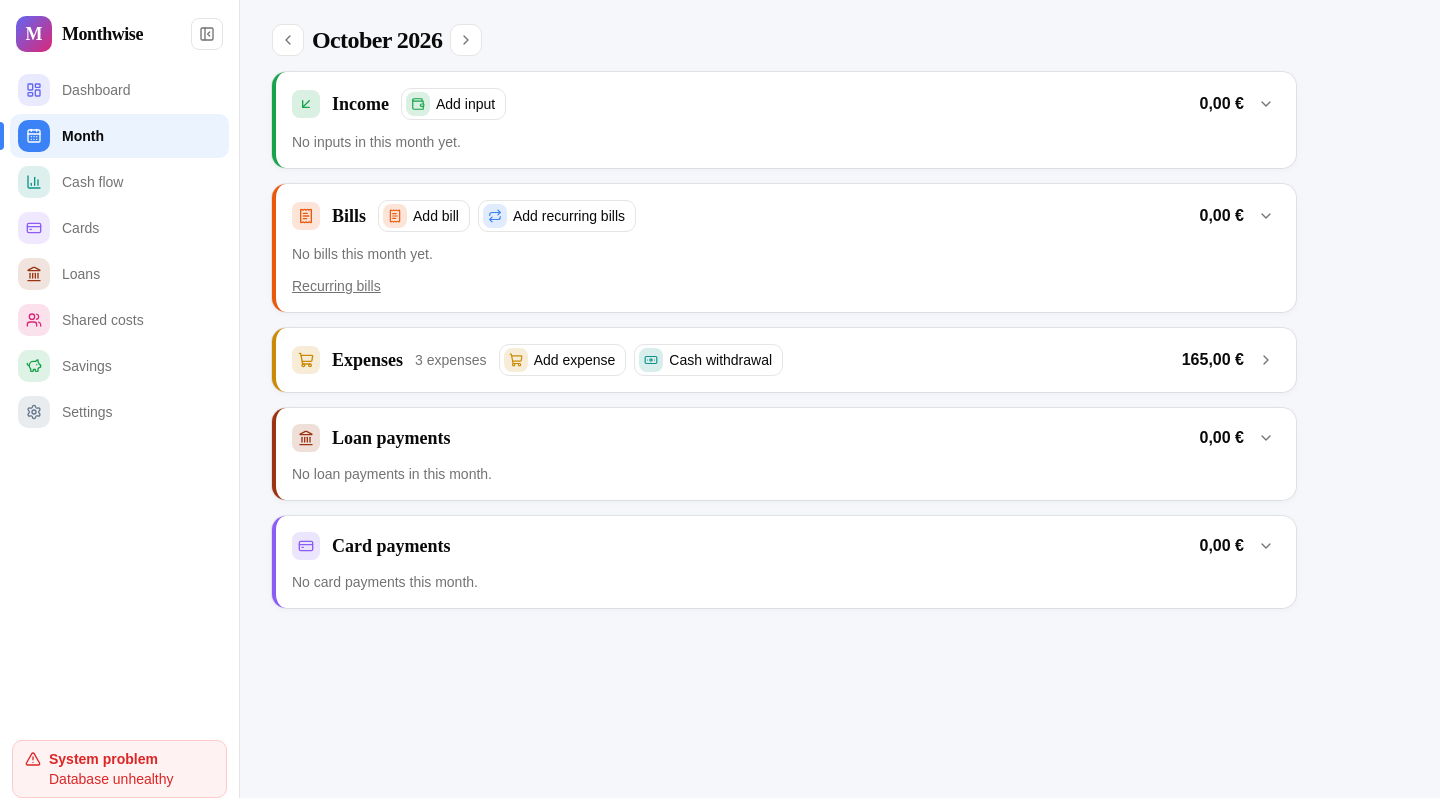
Test: Expenses › lists expenses with the cash withdrawal and card totals
The image size is (1440, 798).
# Expenses are always paid, so the section starts collapsed (design refresh FR-15).
Click the button named "Expand Expenses": click(1266, 360) [1252,346,1280,374]
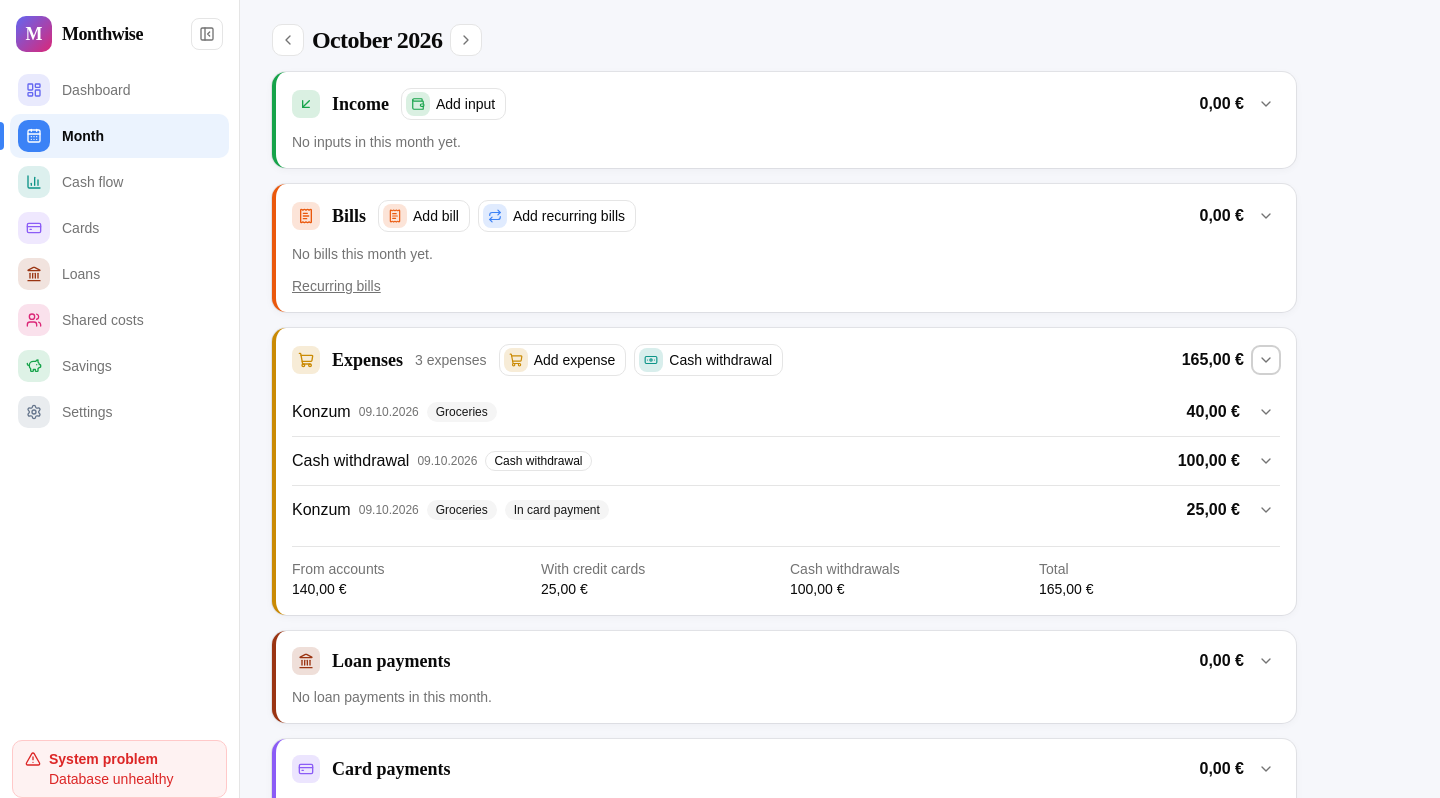
Now the number of links "Konzum" is 2, box [292,403,351,420]; [292,501,351,518]
Now the text "100,00 €" below "Cash withdrawals" is shown, box [790,581,844,597]
Now the text "25,00 €" below "With credit cards" is shown, box [541,581,588,597]
